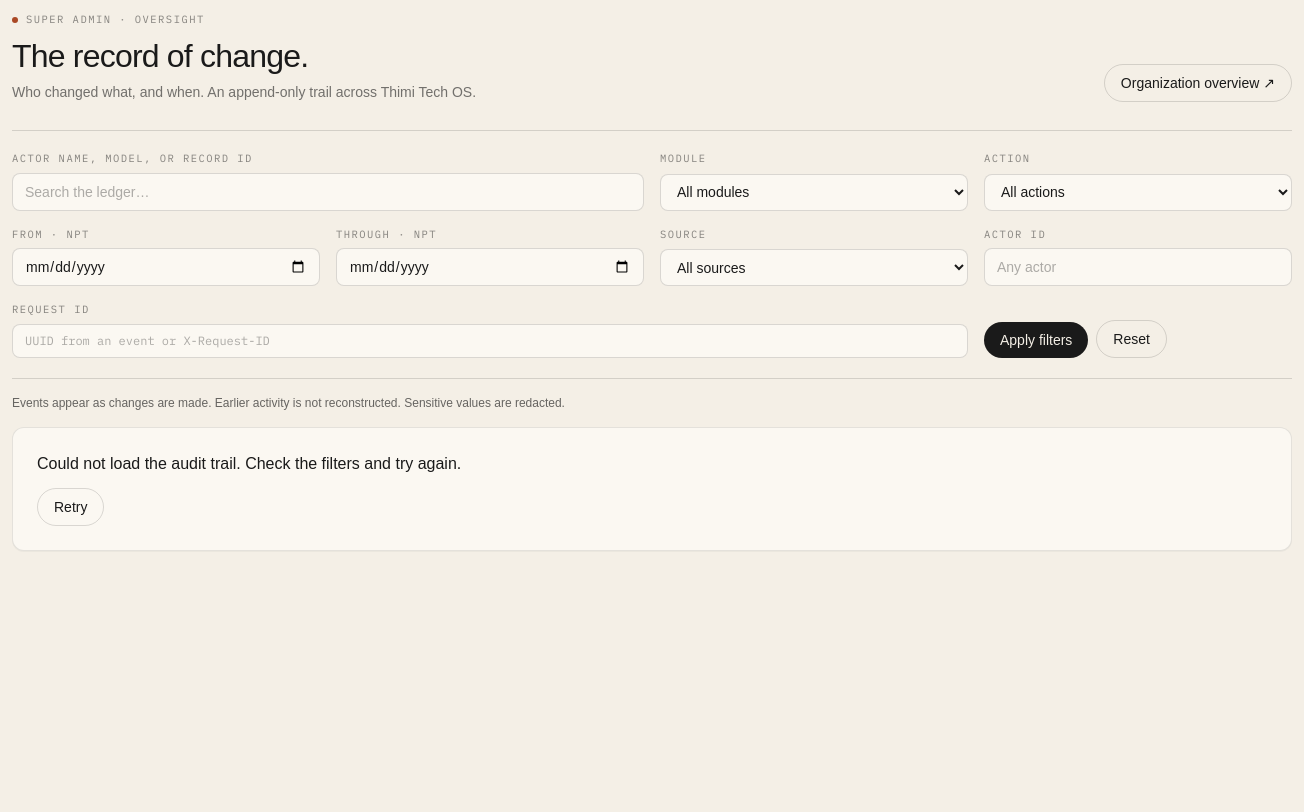
Test: Audit ledger › shows a retry on network failure and recovers
The width and height of the screenshot is (1304, 812).
expect the message "Could not load the audit trail. Check the filters and try again. Retry" is shown: met, box [12,427,1292,551]
Step 1. Click the button "Retry" → (71, 507), box [37,488,104,526]
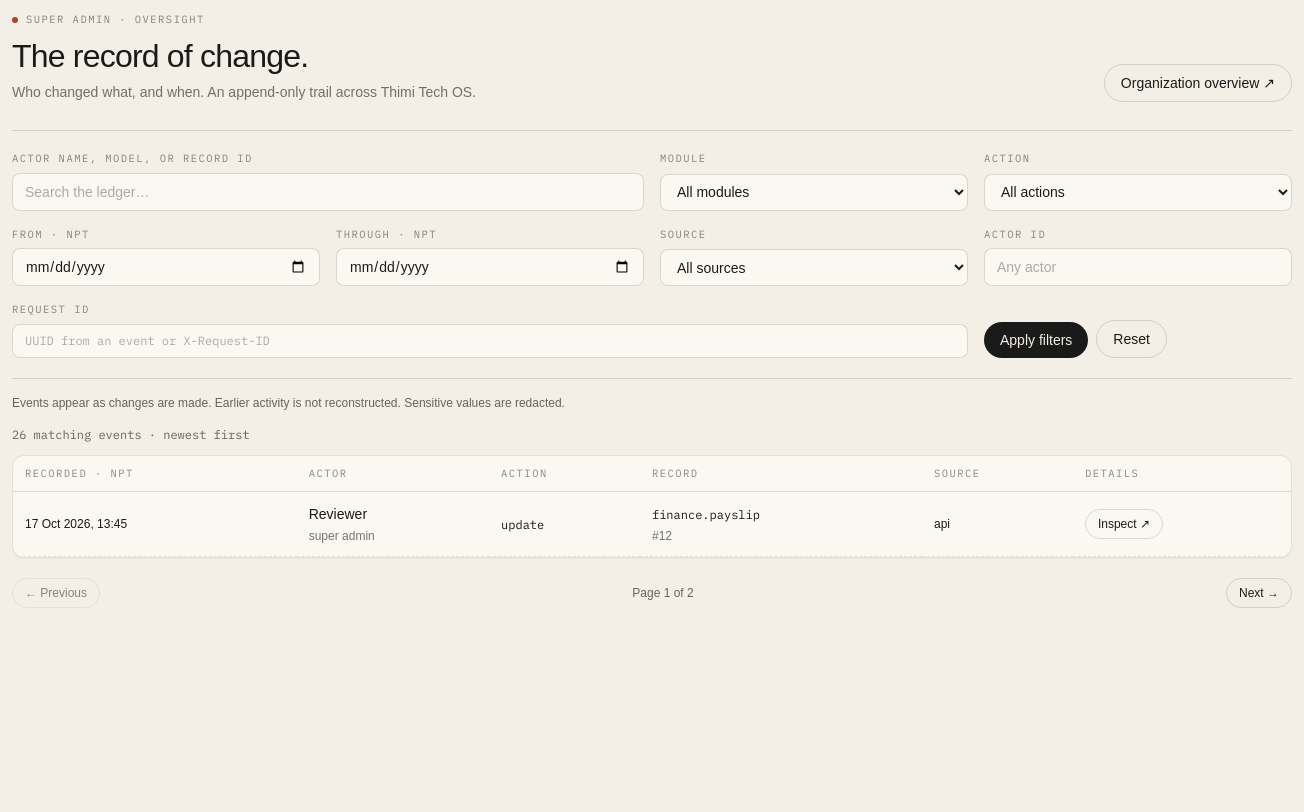
expect the text "Reviewer" is shown: met, box [309,506,367,522]
